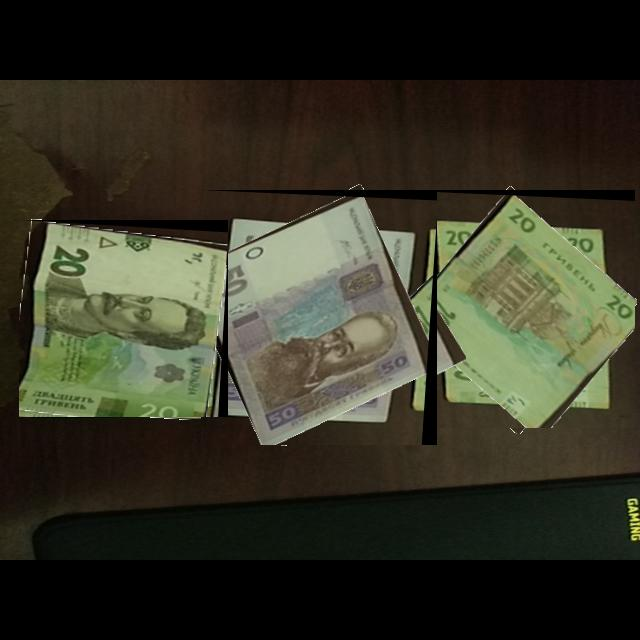20uah: (399, 195, 636, 429), (19, 222, 228, 418)
50uah: (201, 196, 430, 446)
